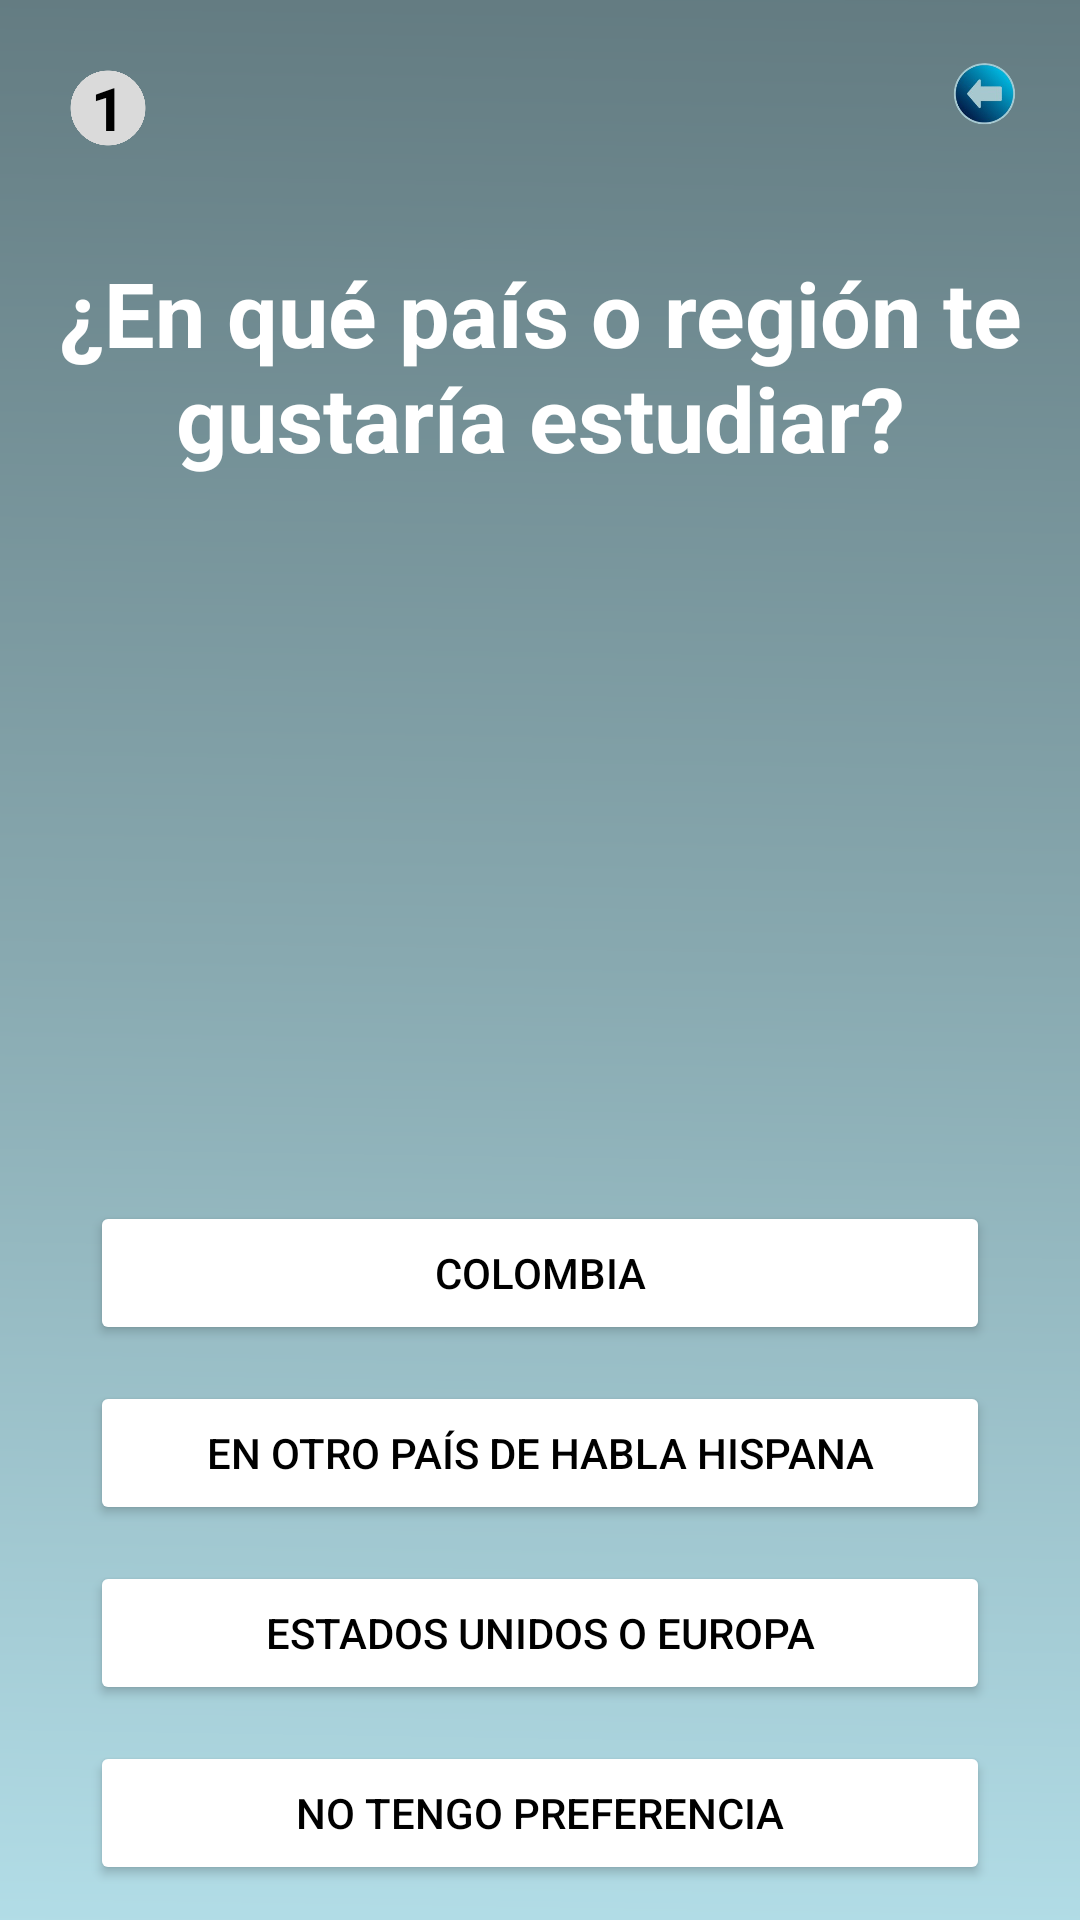

Icon bounding boxes for this 1080 × 1920 phone screenshot, format (x1, y1, x2, y2):
retroceso: (954, 63, 1015, 124)
